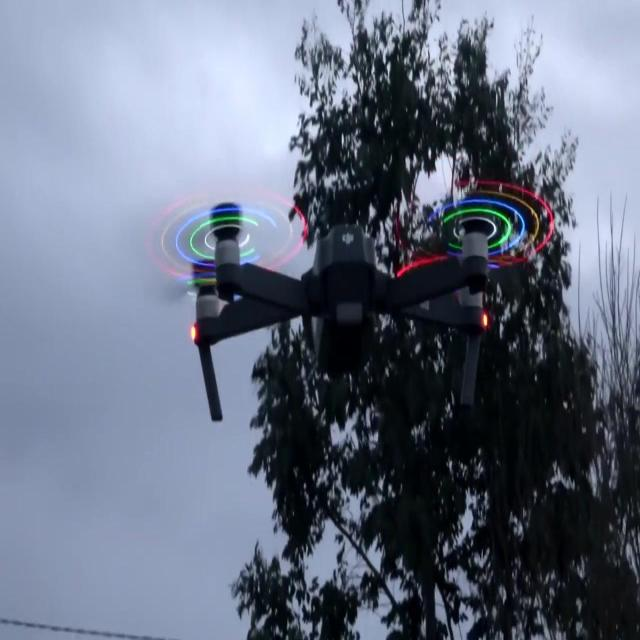drone: (146, 175, 554, 423)
